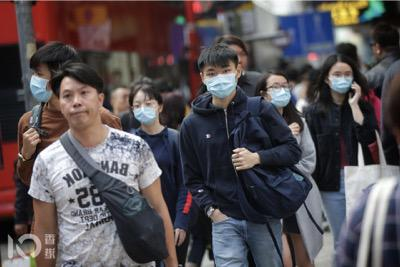with_mask: (202, 64, 236, 100), (28, 67, 50, 105), (327, 69, 355, 96), (133, 96, 157, 127), (266, 80, 291, 109)
without_mask: (61, 84, 97, 130)
